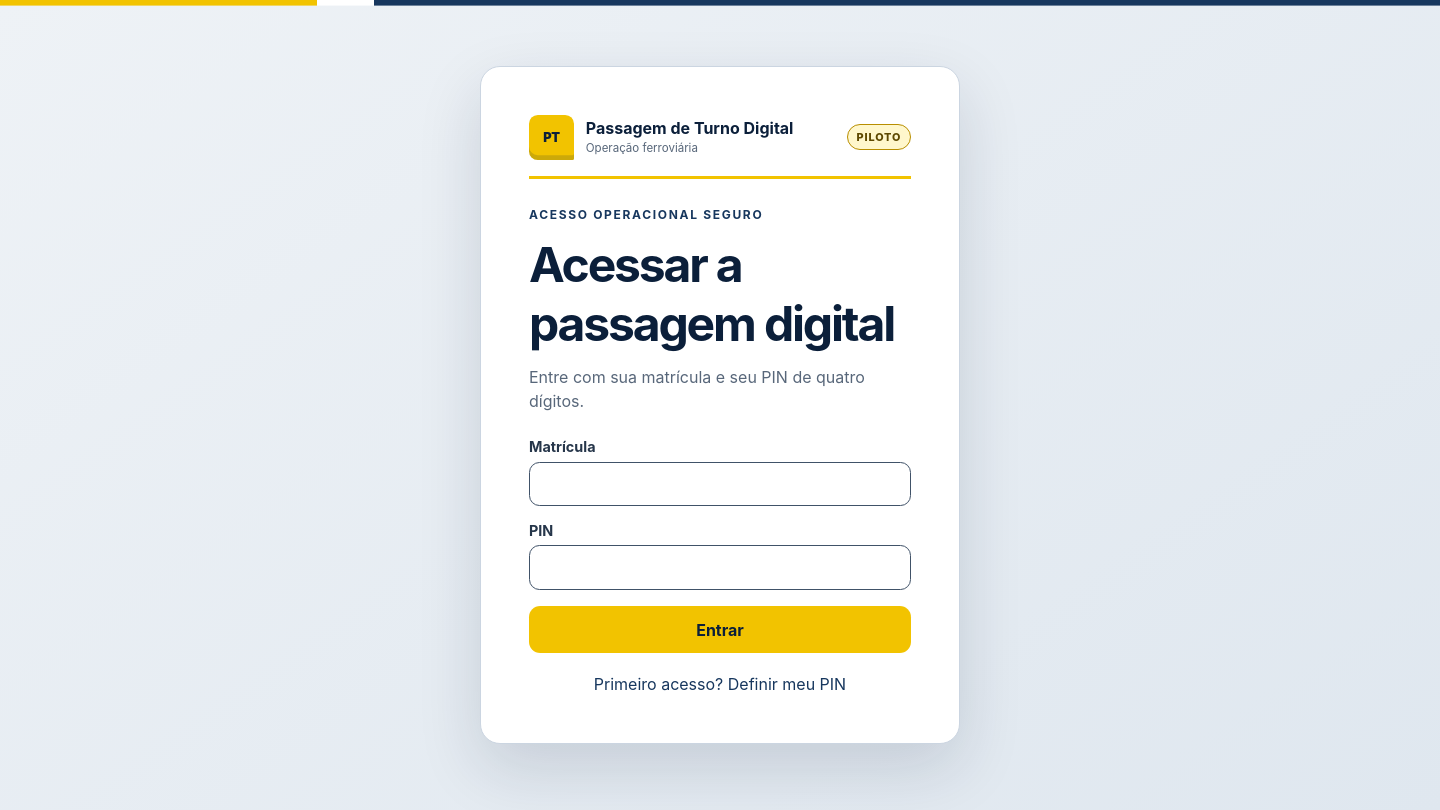
Test case: autenticação React › exibe de forma controlada o erro retornado pela API
Type "30032552" into the field labelled "Matrícula".
click(720, 484); type("30032552")  # box x1=529 y1=462 x2=911 y2=506
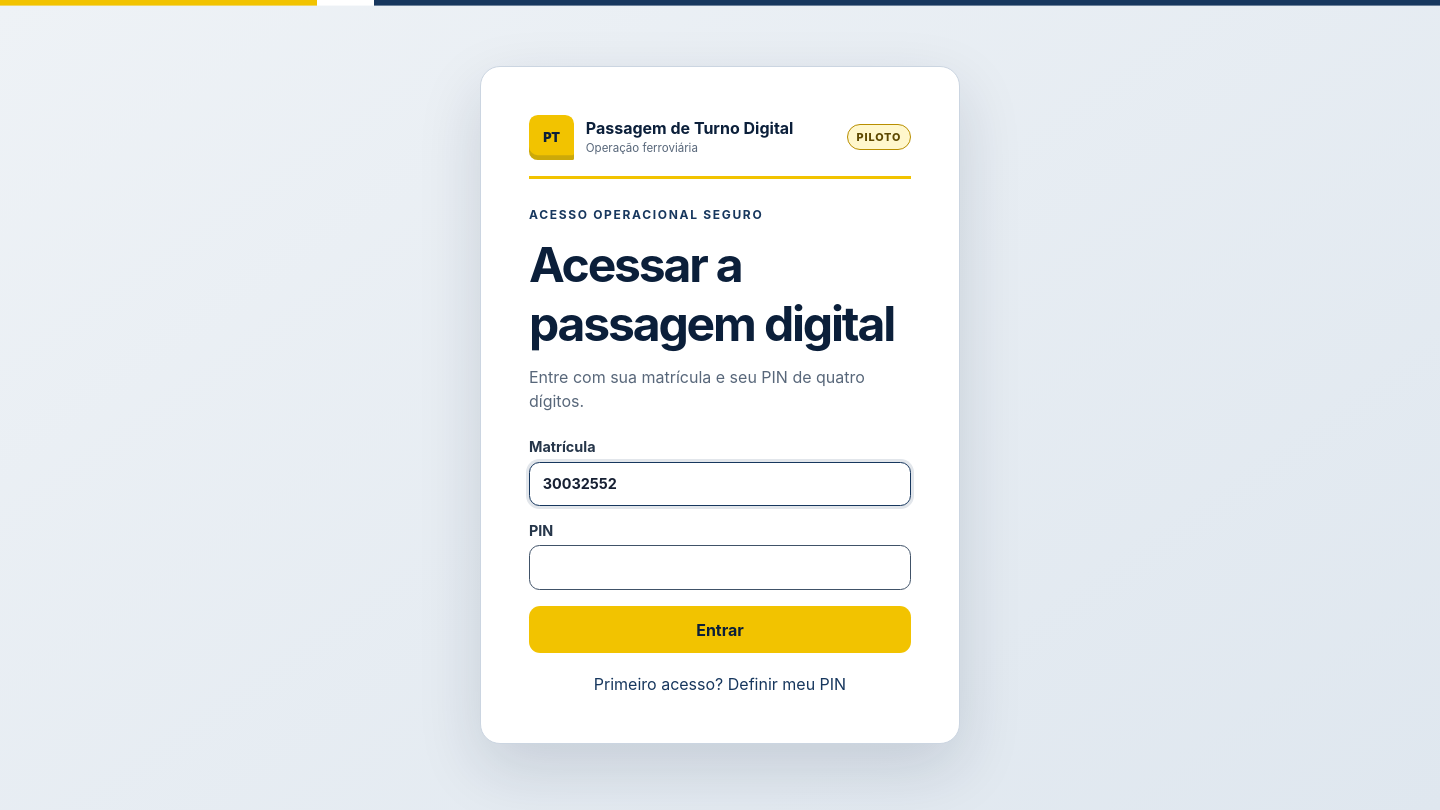
Type "4321" into the password field labelled "PIN".
click(720, 568); type("4321")  # box x1=529 y1=546 x2=911 y2=590
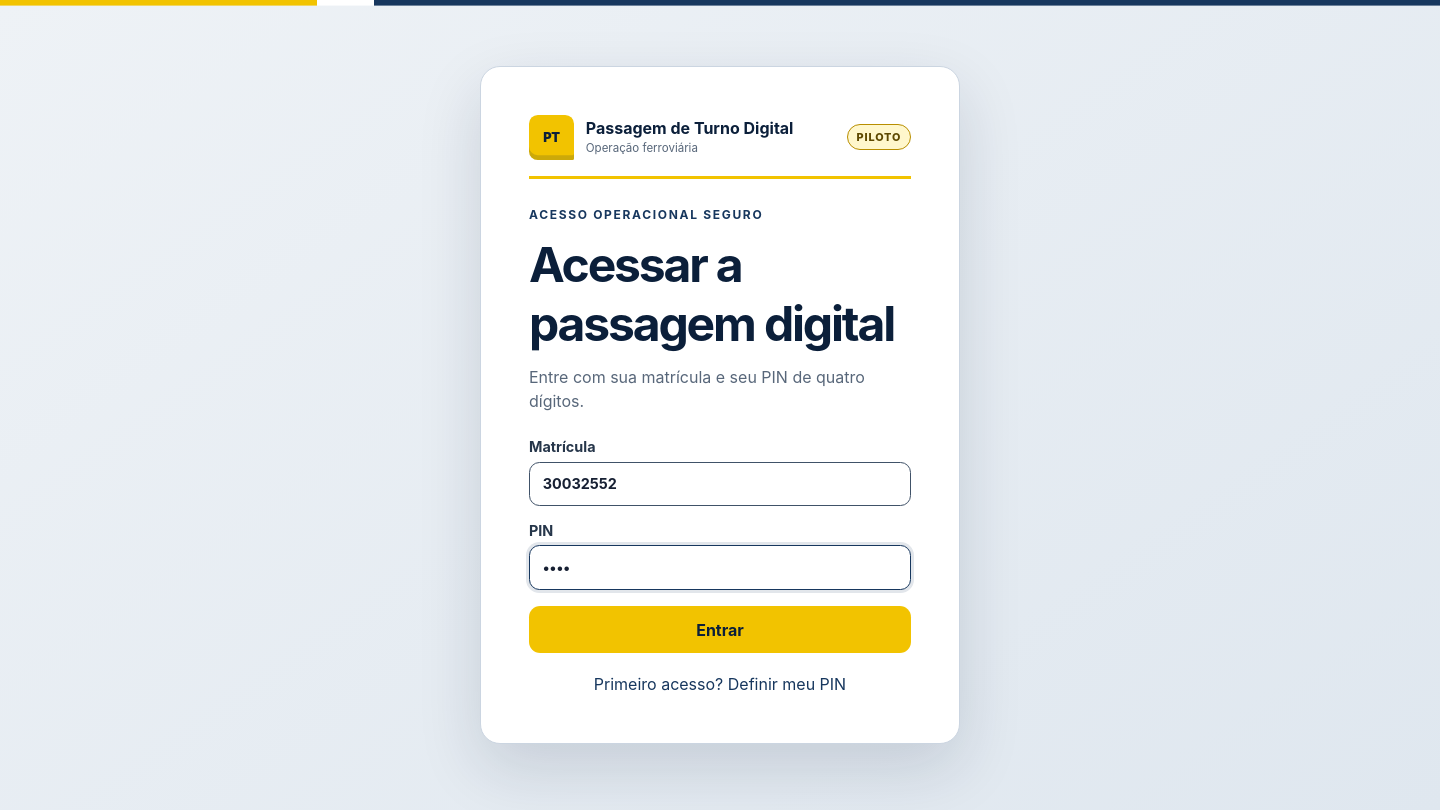
Click the button "Entrar".
click(720, 630)  # box x1=529 y1=606 x2=911 y2=653
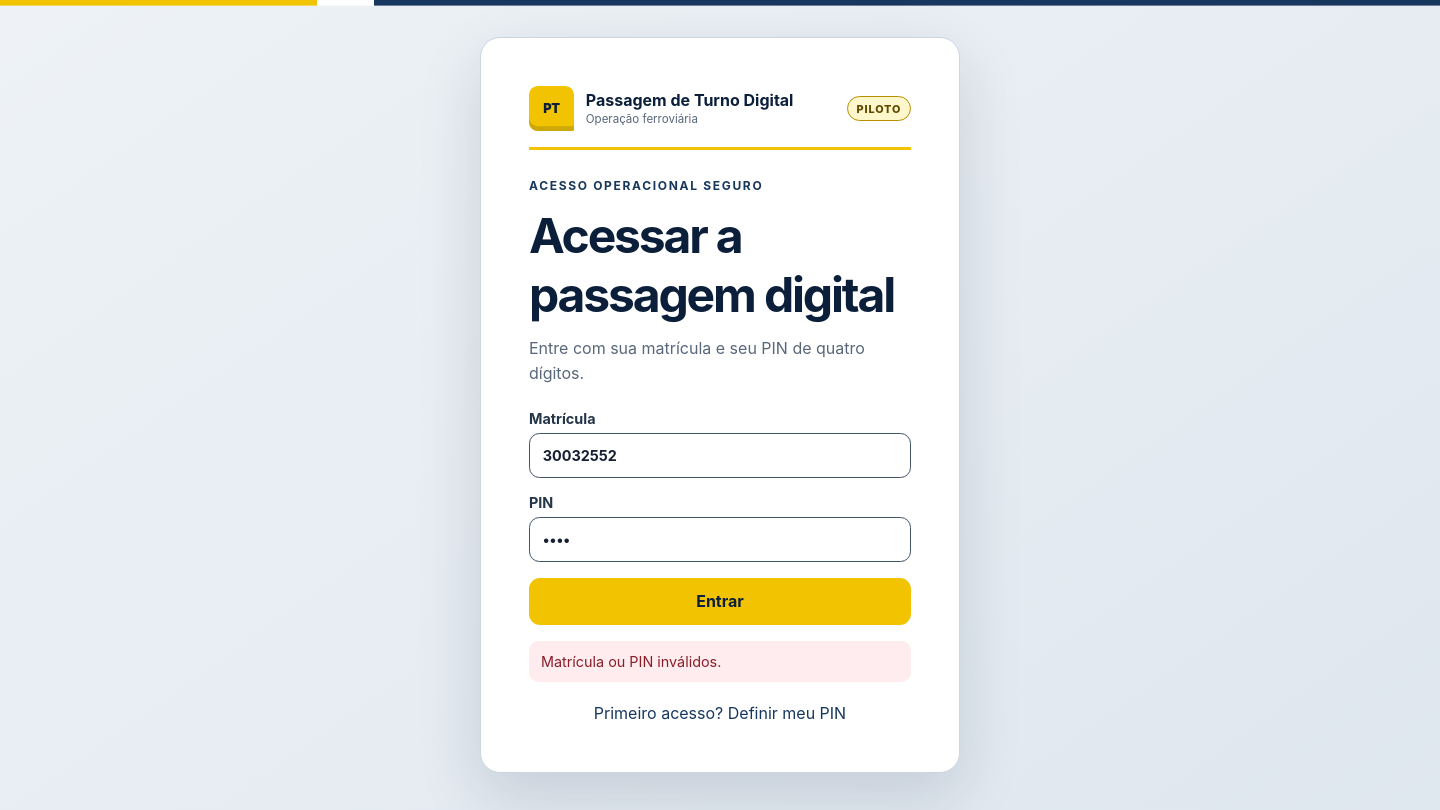
Now the message reads "Matrícula ou PIN inválidos.", box x1=541 y1=653 x2=721 y2=670
